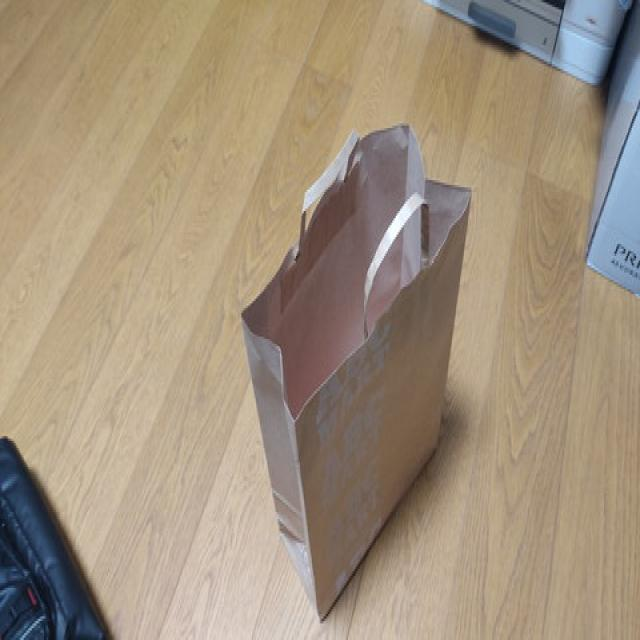paper bag: (240, 119, 468, 626)
